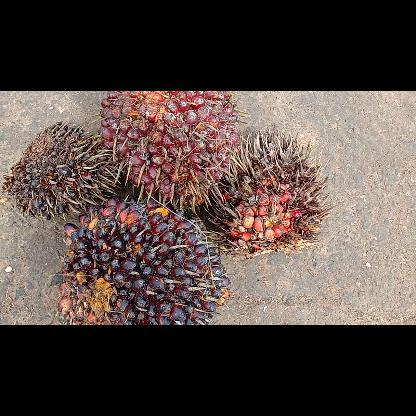Kurang masak: (56, 194, 232, 324)
TBS abnormal: (0, 119, 122, 220)
TBS masak: (96, 92, 238, 214)
Terlalu masak: (204, 126, 335, 260)
